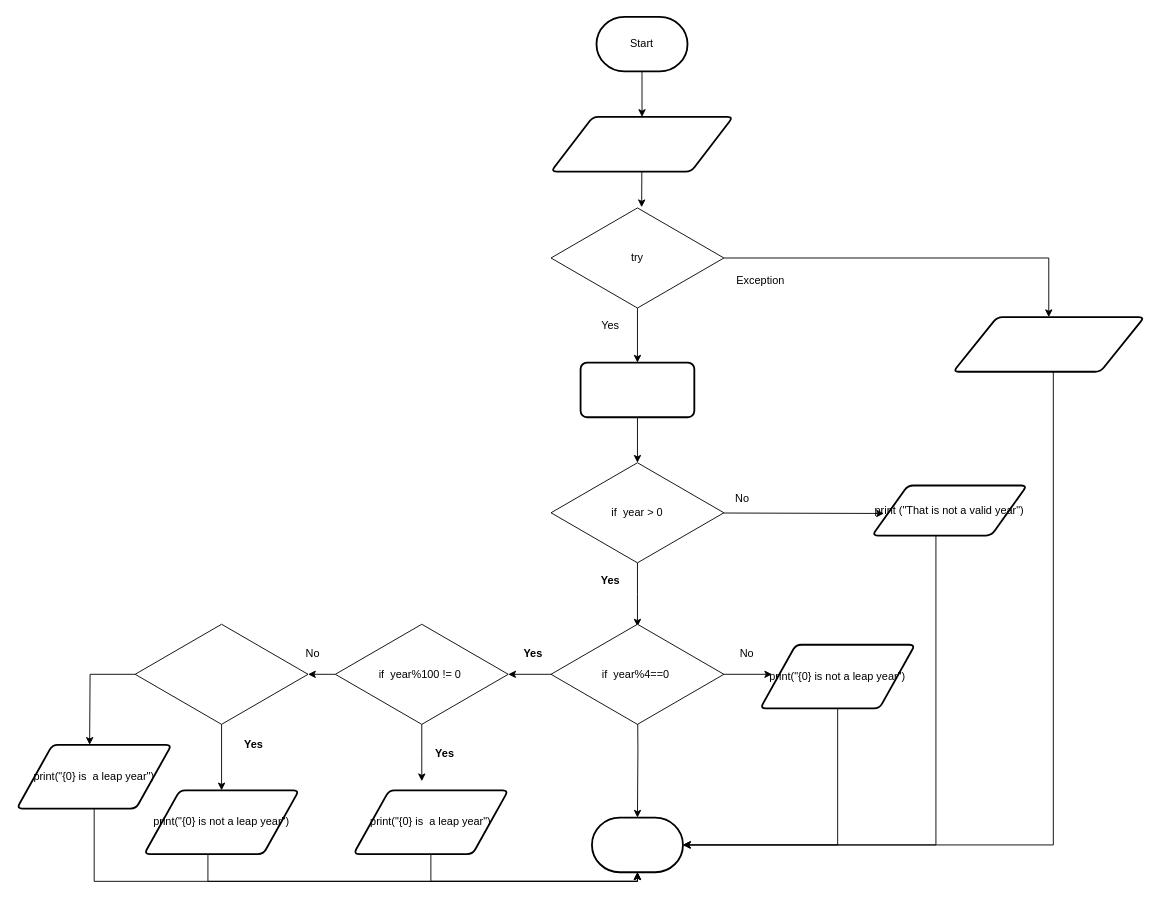
This 1160x905 diagram has some shape labels left out. Each missing label, with the centre of its shape:
convert string to int: the point at 637,389
Get year: the point at 641,144
if year%400 != 0: the point at 221,673
print ("{} is not a valid input"): the point at 1048,344
Stop: the point at 637,844
